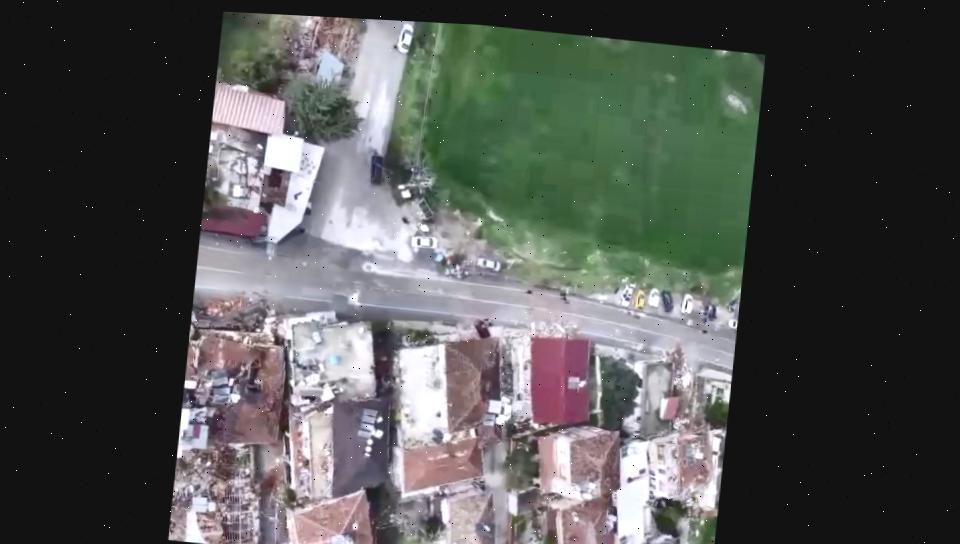kapali: (240, 284, 281, 459), (478, 308, 509, 475), (254, 460, 286, 536)
